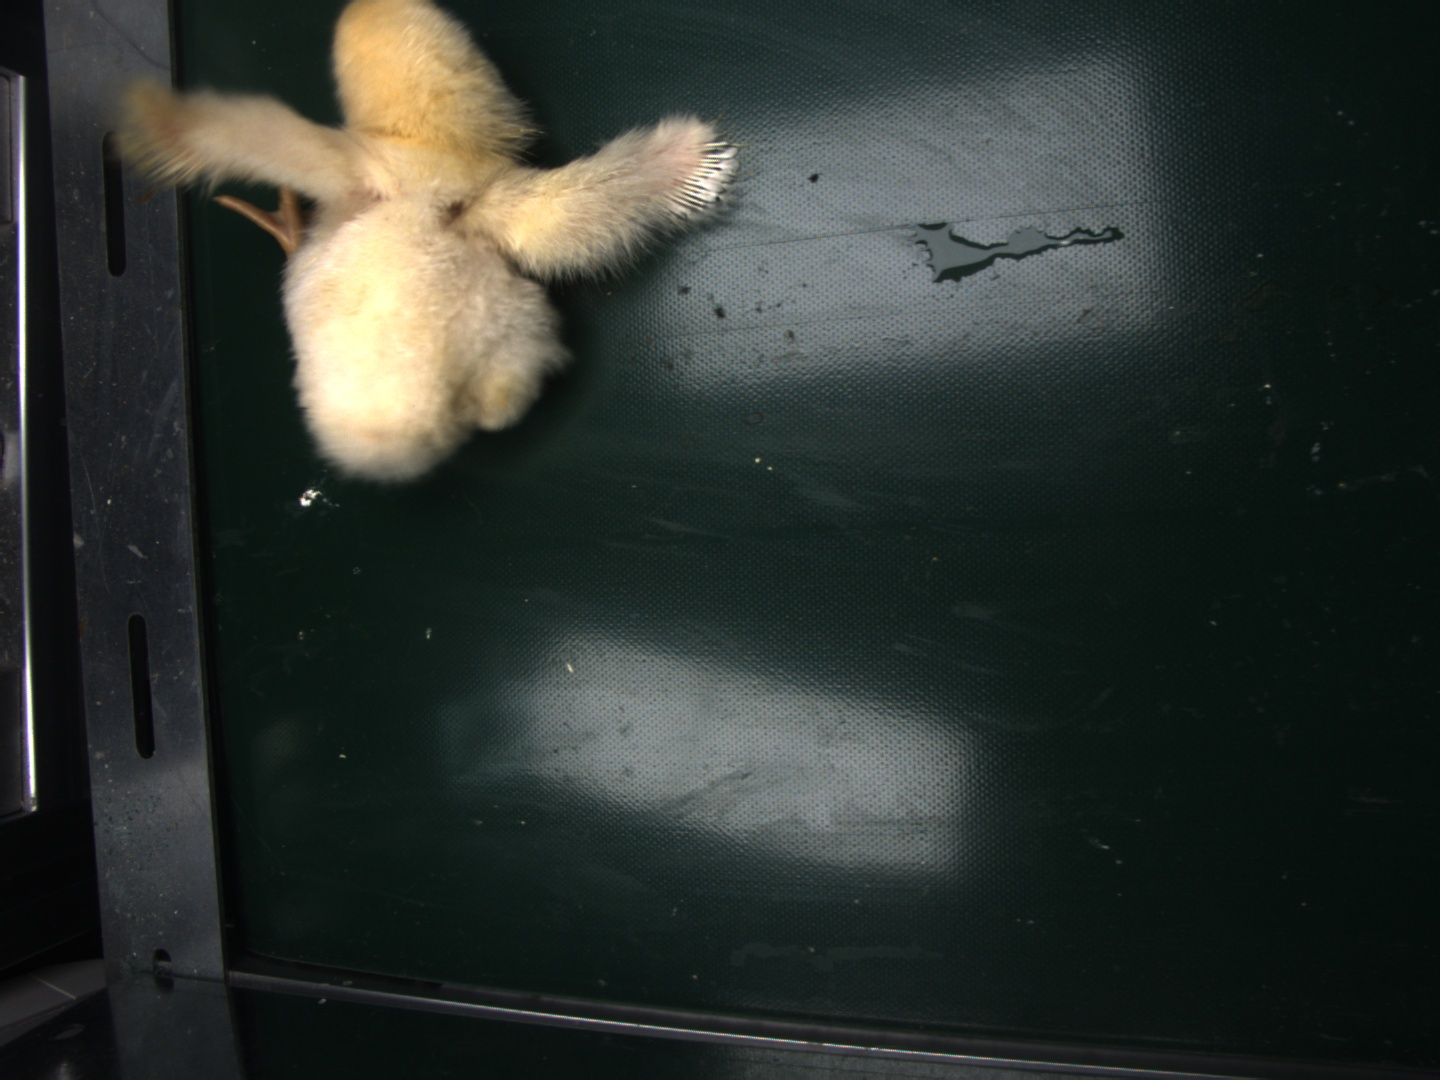male: (672, 136, 738, 218)
